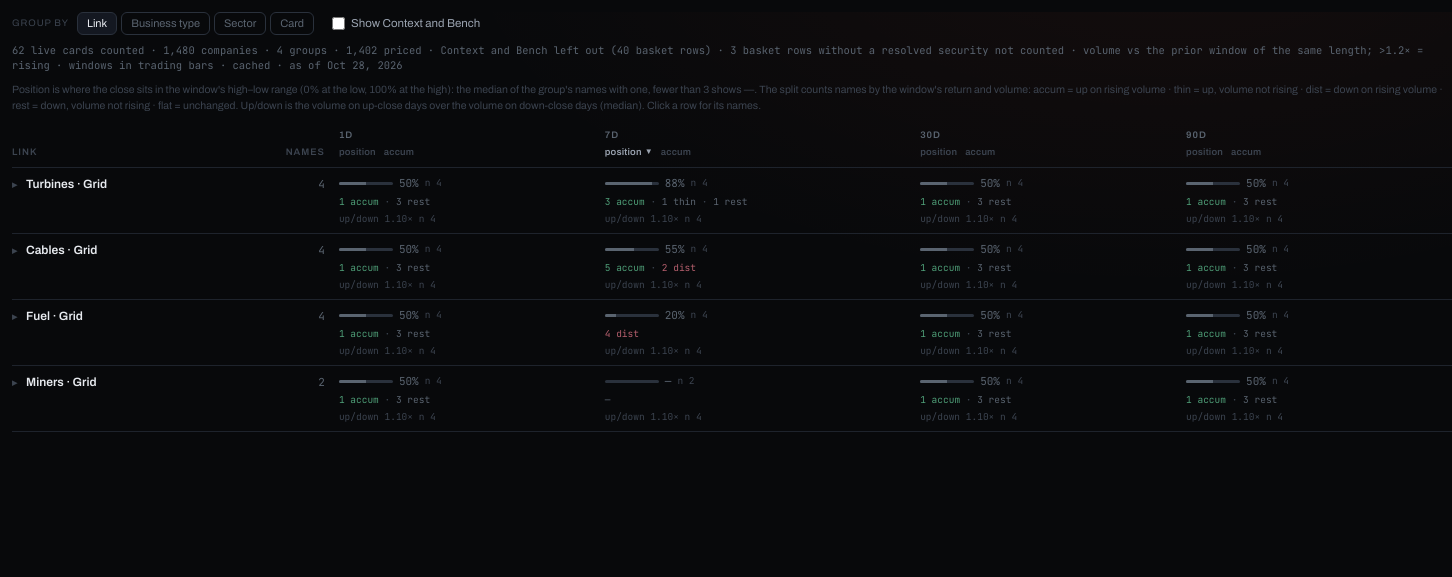
Test: Price & Volume Landing — a row's names › a click expands the row into its names (7D position highest first, — last) and a second click folds it
What coordinates should you click on to do the following:
click the row that starts with "Turbines · Grid"
I would click on:
 (732, 200)
Its box is [12,168,1451,234].
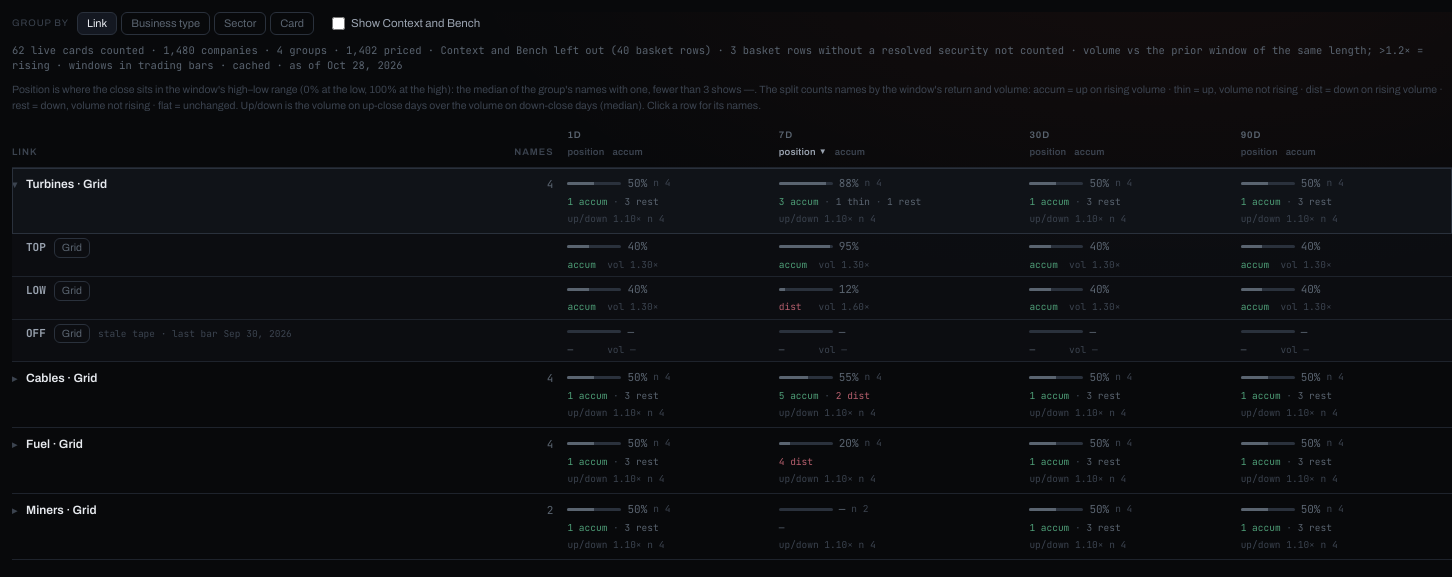
Check: the row that starts with "Turbines · Grid" is expanded
Check: the text "12%" is shown, box [839,281,858,297]
Check: the cell "12% dist vol 1.60×" is shown, box [779,276,1029,319]
What coordinates should you click on to do the following:
click the row that starts with "Turbines · Grid"
I would click on:
 (732, 200)
Its box is [12,168,1451,234].
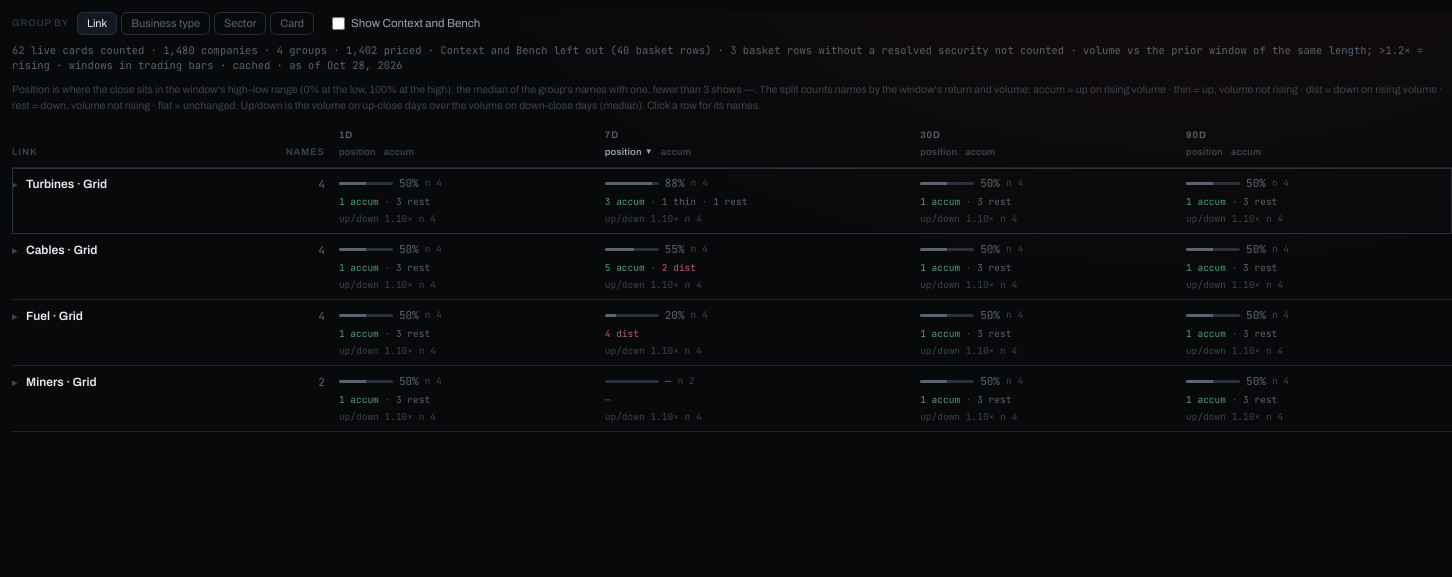
Check: no rows with class "ld-name" are shown
